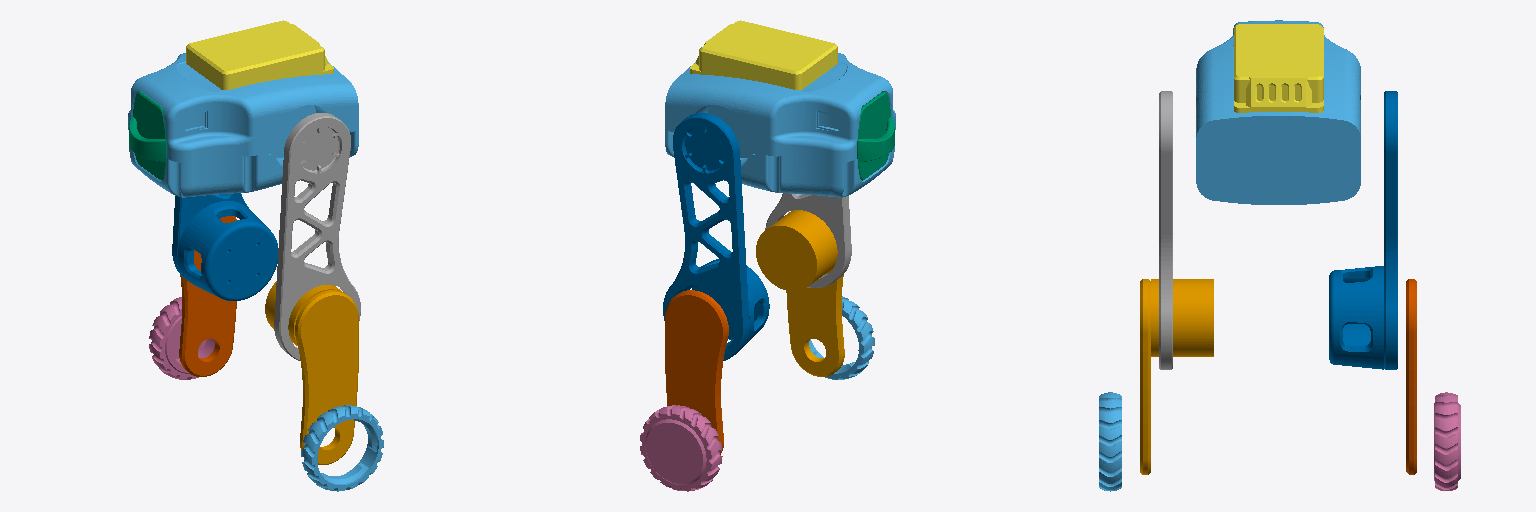
The robot description file, URDF, robot "Tancho_v3":
<?xml version='1.0' encoding='utf-8'?>
<robot name="Tancho_v3">
  <link name="base_link_root" />
  <link name="base_link">
    <inertial>
      <origin xyz="0.0011187875 0.00127367658 -1.70173615e-08" rpy="0 0 0" />
      <mass value="0.348" />
      <inertia ixx="0.000593043538" iyy="0.00111124105" izz="0.000996417014" ixy="-3.01447428e-06" ixz="2.6335003e-10" iyz="1.92376359e-09" />
    </inertial>
    <visual>
      <origin xyz="0 0 0" rpy="0 0 0" />
      <geometry>
        <mesh filename="meshes/base_link.stl" />
      </geometry>
    </visual>
    <collision>
      <origin xyz="0 0 0" rpy="0 0 0" />
      <geometry>
        <mesh filename="meshes/base_link.stl" />
      </geometry>
    </collision>
    <visual>
      <origin xyz="0 0 0" rpy="0 0 0" />
      <geometry>
        <mesh filename="meshes/base_link001.stl" />
      </geometry>
    </visual>
    <collision>
      <origin xyz="0 0 0" rpy="0 0 0" />
      <geometry>
        <mesh filename="meshes/base_link001.stl" />
      </geometry>
    </collision>
    <visual>
      <origin xyz="0 0 0" rpy="0 0 0" />
      <geometry>
        <mesh filename="meshes/base_link002.stl" />
      </geometry>
    </visual>
    <collision>
      <origin xyz="0 0 0" rpy="0 0 0" />
      <geometry>
        <mesh filename="meshes/base_link002.stl" />
      </geometry>
    </collision>
  </link>
  <link name="drawer">
    <inertial>
      <origin xyz="-0.0211872329 -0.00792307398 1.62167735e-08" rpy="0 0 0" />
      <mass value="0.4" />
      <inertia ixx="0.000138603081" iyy="0.000681290964" izz="0.000678129249" ixy="3.77968725e-05" ixz="3.49798101e-10" iyz="-1.01244165e-10" />
    </inertial>
    <visual>
      <origin xyz="0 0 0" rpy="0 0 0" />
      <geometry>
        <mesh filename="meshes/drawer.stl" />
      </geometry>
    </visual>
    <collision>
      <origin xyz="0 0 0" rpy="0 0 0" />
      <geometry>
        <mesh filename="meshes/drawer.stl" />
      </geometry>
    </collision>
  </link>
  <link name="pi_case">
    <inertial>
      <origin xyz="0.0233176478 0.0504234963 2.16819542e-07" rpy="0 0 0" />
      <mass value="0.146" />
      <inertia ixx="5.63737974e-05" iyy="0.000172248568" izz="0.000125194055" ixy="5.67823474e-06" ixz="4.78640645e-10" iyz="1.98975908e-10" />
    </inertial>
    <visual>
      <origin xyz="0 0 0" rpy="0 0 0" />
      <geometry>
        <mesh filename="meshes/pi_case.stl" />
      </geometry>
    </visual>
    <collision>
      <origin xyz="0 0 0" rpy="0 0 0" />
      <geometry>
        <mesh filename="meshes/pi_case.stl" />
      </geometry>
    </collision>
  </link>
  <link name="thigh_L">
    <inertial>
      <origin xyz="-0.000408445945 -0.0229151318 -0.00280925304" rpy="0 0 0" />
      <mass value="0.379" />
      <inertia ixx="0.0011933124" iyy="0.000180923701" izz="0.00119950751" ixy="-9.84386411e-06" ixz="-3.90023267e-06" iyz="-4.78810371e-05" />
    </inertial>
    <visual>
      <origin xyz="0 0 0" rpy="0 0 0" />
      <geometry>
        <mesh filename="meshes/joint_thigh_L.stl" />
      </geometry>
    </visual>
    <collision>
      <origin xyz="0 0 0" rpy="0 0 0" />
      <geometry>
        <mesh filename="meshes/joint_thigh_L.stl" />
      </geometry>
    </collision>
    <visual>
      <origin xyz="0 0 0" rpy="0 0 0" />
      <geometry>
        <mesh filename="meshes/thigh_L.stl" />
      </geometry>
    </visual>
    <collision>
      <origin xyz="0 0 0" rpy="0 0 0" />
      <geometry>
        <mesh filename="meshes/thigh_L.stl" />
      </geometry>
    </collision>
    <visual>
      <origin xyz="0 0 0" rpy="0 0 0" />
      <geometry>
        <mesh filename="meshes/knee_cover_L.stl" />
      </geometry>
    </visual>
    <collision>
      <origin xyz="0 0 0" rpy="0 0 0" />
      <geometry>
        <mesh filename="meshes/knee_cover_L.stl" />
      </geometry>
    </collision>
  </link>
  <link name="calf_L">
    <inertial>
      <origin xyz="0.000188809828 -0.00516026443 -0.00324688923" rpy="0 0 0" />
      <mass value="0.341" />
      <inertia ixx="0.000273664582" iyy="0.000148954531" izz="0.000263786338" ixy="2.84340912e-06" ixz="1.52962103e-06" iyz="-4.18052867e-05" />
    </inertial>
    <visual>
      <origin xyz="0 0 0" rpy="0 0 0" />
      <geometry>
        <mesh filename="meshes/joint_knee_L.stl" />
      </geometry>
    </visual>
    <collision>
      <origin xyz="0 0 0" rpy="0 0 0" />
      <geometry>
        <mesh filename="meshes/joint_knee_L.stl" />
      </geometry>
    </collision>
    <visual>
      <origin xyz="0 0 0" rpy="0 0 0" />
      <geometry>
        <mesh filename="meshes/calf_L.stl" />
      </geometry>
    </visual>
    <collision>
      <origin xyz="0 0 0" rpy="0 0 0" />
      <geometry>
        <mesh filename="meshes/calf_L.stl" />
      </geometry>
    </collision>
  </link>
  <link name="wheel_L">
    <inertial>
      <origin xyz="4.74095232e-11 5.83255949e-07 0.00192447727" rpy="0 0 0" />
      <mass value="0.152" />
      <inertia ixx="3.78602142e-05" iyy="3.7860214e-05" izz="5.35967391e-05" ixy="-2.30837502e-16" ixz="-8.13345963e-14" iyz="-5.49762767e-10" />
    </inertial>
    <visual>
      <origin xyz="0 0 0" rpy="0 0 0" />
      <geometry>
        <mesh filename="meshes/joint_wheel_L.stl" />
      </geometry>
    </visual>
    <collision>
      <origin xyz="0 0 0" rpy="0 0 0" />
      <geometry>
        <mesh filename="meshes/joint_wheel_L.stl" />
      </geometry>
    </collision>
    <visual>
      <origin xyz="0 0 0" rpy="0 0 0" />
      <geometry>
        <mesh filename="meshes/wheel_L.stl" />
      </geometry>
    </visual>
    <collision>
      <origin xyz="0 0 0" rpy="0 0 0" />
      <geometry>
        <mesh filename="meshes/wheel_L.stl" />
      </geometry>
    </collision>
    <visual>
      <origin xyz="0 0 0" rpy="0 0 0" />
      <geometry>
        <mesh filename="meshes/wheel_L001.stl" />
      </geometry>
    </visual>
    <collision>
      <origin xyz="0 0 0" rpy="0 0 0" />
      <geometry>
        <mesh filename="meshes/wheel_L001.stl" />
      </geometry>
    </collision>
  </link>
  <link name="thigh_R">
    <inertial>
      <origin xyz="-0.00040844648 -0.0229151208 0.00280925412" rpy="0 0 0" />
      <mass value="0.379" />
      <inertia ixx="0.00119331189" iyy="0.000180923737" izz="0.00119950696" ixy="-9.84387862e-06" ixz="3.90023762e-06" iyz="4.7880986e-05" />
    </inertial>
    <visual>
      <origin xyz="0 0 0" rpy="0 0 0" />
      <geometry>
        <mesh filename="meshes/joint_thigh_R.stl" />
      </geometry>
    </visual>
    <collision>
      <origin xyz="0 0 0" rpy="0 0 0" />
      <geometry>
        <mesh filename="meshes/joint_thigh_R.stl" />
      </geometry>
    </collision>
    <visual>
      <origin xyz="0 0 0" rpy="0 0 0" />
      <geometry>
        <mesh filename="meshes/thigh_R.stl" />
      </geometry>
    </visual>
    <collision>
      <origin xyz="0 0 0" rpy="0 0 0" />
      <geometry>
        <mesh filename="meshes/thigh_R.stl" />
      </geometry>
    </collision>
    <visual>
      <origin xyz="0 0 0" rpy="0 0 0" />
      <geometry>
        <mesh filename="meshes/knee_cover_R.stl" />
      </geometry>
    </visual>
    <collision>
      <origin xyz="0 0 0" rpy="0 0 0" />
      <geometry>
        <mesh filename="meshes/knee_cover_R.stl" />
      </geometry>
    </collision>
  </link>
  <link name="calf_R">
    <inertial>
      <origin xyz="0.000188809828 -0.00516026443 0.00324688923" rpy="0 0 0" />
      <mass value="0.341" />
      <inertia ixx="0.000273664582" iyy="0.000148954531" izz="0.000263786338" ixy="2.84340912e-06" ixz="-1.52962103e-06" iyz="4.18052867e-05" />
    </inertial>
    <visual>
      <origin xyz="0 0 0" rpy="0 0 0" />
      <geometry>
        <mesh filename="meshes/joint_knee_R.stl" />
      </geometry>
    </visual>
    <collision>
      <origin xyz="0 0 0" rpy="0 0 0" />
      <geometry>
        <mesh filename="meshes/joint_knee_R.stl" />
      </geometry>
    </collision>
    <visual>
      <origin xyz="0 0 0" rpy="0 0 0" />
      <geometry>
        <mesh filename="meshes/calf_R.stl" />
      </geometry>
    </visual>
    <collision>
      <origin xyz="0 0 0" rpy="0 0 0" />
      <geometry>
        <mesh filename="meshes/calf_R.stl" />
      </geometry>
    </collision>
  </link>
  <link name="wheel_R">
    <inertial>
      <origin xyz="2.1907452e-11 5.83325029e-07 -0.00192447731" rpy="0 0 0" />
      <mass value="0.152" />
      <inertia ixx="3.78602143e-05" iyy="3.78602141e-05" izz="5.35967391e-05" ixy="1.66490752e-16" ixz="1.49207184e-14" iyz="5.49859042e-10" />
    </inertial>
    <visual>
      <origin xyz="0 0 0" rpy="0 0 0" />
      <geometry>
        <mesh filename="meshes/joint_wheel_R.stl" />
      </geometry>
    </visual>
    <collision>
      <origin xyz="0 0 0" rpy="0 0 0" />
      <geometry>
        <mesh filename="meshes/joint_wheel_R.stl" />
      </geometry>
    </collision>
    <visual>
      <origin xyz="0 0 0" rpy="0 0 0" />
      <geometry>
        <mesh filename="meshes/wheel_R.stl" />
      </geometry>
    </visual>
    <collision>
      <origin xyz="0 0 0" rpy="0 0 0" />
      <geometry>
        <mesh filename="meshes/wheel_R.stl" />
      </geometry>
    </collision>
    <visual>
      <origin xyz="0 0 0" rpy="0 0 0" />
      <geometry>
        <mesh filename="meshes/wheel_R001.stl" />
      </geometry>
    </visual>
    <collision>
      <origin xyz="0 0 0" rpy="0 0 0" />
      <geometry>
        <mesh filename="meshes/wheel_R001.stl" />
      </geometry>
    </collision>
  </link>
  <link name="imu_link" />
  <joint name="base_link_rotation_joint" type="fixed">
    <origin xyz="0 0 0" rpy="1.57079633 0 0" />
    <parent link="base_link_root" />
    <child link="base_link" />
  </joint>
  <joint name="joint_drawer_R" type="fixed">
    <origin xyz="-0.01 0.00055265617 0" rpy="0 0 0" />
    <parent link="base_link" />
    <child link="drawer" />
  </joint>
  <joint name="joint_pi_case_R" type="fixed">
    <origin xyz="-0.01 0.00055265617 0" rpy="0 0 0" />
    <parent link="base_link" />
    <child link="pi_case" />
  </joint>
  <joint name="joint_thigh_L" type="revolute">
    <origin xyz="0.0192385743 0.000552656168 -0.0539953847" rpy="0 0 0" />
    <parent link="base_link" />
    <child link="thigh_L" />
    <axis xyz="0 0 1" />
    <limit lower="-1.57" upper="1.57" effort="12.5" velocity="12.5663706" />
  </joint>
  <joint name="joint_calf_L" type="revolute">
    <origin xyz="-1.53296043e-13 -0.15 -0.016" rpy="0 0 0" />
    <parent link="thigh_L" />
    <child link="calf_L" />
    <axis xyz="0 0 1" />
    <limit lower="0" upper="3" effort="12.5" velocity="12.5663706" />
  </joint>
  <joint name="joint_wheel_L" type="continuous">
    <origin xyz="4.58907579e-13 -0.0999975373 -0.0455046153" rpy="3.14159265 0 0" />
    <parent link="calf_L" />
    <child link="wheel_L" />
    <axis xyz="0 0 1" />
    <limit effort="0.45" velocity="52.3598776" />
  </joint>
  <joint name="joint_thigh_R" type="revolute">
    <origin xyz="0.0192385743 0.000552656168 0.0539953847" rpy="0 0 0" />
    <parent link="base_link" />
    <child link="thigh_R" />
    <axis xyz="0 0 1" />
    <limit lower="-1.57" upper="1.57" effort="12.5" velocity="12.5663706" />
  </joint>
  <joint name="joint_calf_R" type="revolute">
    <origin xyz="-1.62007296e-13 -0.15 0.016" rpy="0 0 0" />
    <parent link="thigh_R" />
    <child link="calf_R" />
    <axis xyz="0 0 1" />
    <limit lower="0" upper="3" effort="12.5" velocity="12.5663706" />
  </joint>
  <joint name="joint_wheel_R" type="continuous">
    <origin xyz="-1.5894841e-14 -0.0999975373 0.0455046153" rpy="3.14159265 0 0" />
    <parent link="calf_R" />
    <child link="wheel_R" />
    <axis xyz="0 0 1" />
    <limit effort="0.45" velocity="52.3598776" />
  </joint>
  <joint name="imu_joint" type="fixed">
    <origin xyz="-0.00835741999 -0.0294337942 -1.60456261e-08" rpy="0 0 0" />
    <parent link="base_link" />
    <child link="imu_link" />
  </joint>
</robot>

--- What the picture shows (computed from the rendered views, not written in the file) ---
The picture shows the robot from 3 angles, left to right: view 1: azimuth 30°, elevation 25°; view 2: azimuth 150°, elevation 25°; view 3: azimuth 270°, elevation 25°; orthographic projection.
Robot: Tancho_v3 — 11 links, 10 joints (4 revolute, 2 continuous, 4 fixed); root link base_link_root; default pose: every joint at zero.
Visible links, largest first — view 1: base_link, thigh_R, calf_R, thigh_L, pi_case, calf_L, wheel_R, drawer, wheel_L; view 2: base_link, thigh_L, calf_R, calf_L, pi_case, wheel_L, thigh_R, drawer, wheel_R; view 3: base_link, thigh_L, pi_case, calf_R, thigh_R, wheel_L, wheel_R, calf_L.
Link boxes in pixels (x1=…): base_link: x1=128, y1=53, x2=358, y2=197; thigh_R: x1=274, y1=113, x2=360, y2=360; calf_R: x1=265, y1=281, x2=358, y2=464; thigh_L: x1=172, y1=193, x2=277, y2=300; pi_case: x1=186, y1=20, x2=333, y2=89; calf_L: x1=179, y1=216, x2=236, y2=376; wheel_R: x1=301, y1=405, x2=383, y2=491; drawer: x1=129, y1=92, x2=166, y2=180; wheel_L: x1=149, y1=297, x2=214, y2=379; base_link: x1=665, y1=53, x2=895, y2=197; thigh_L: x1=663, y1=113, x2=769, y2=360; calf_R: x1=756, y1=210, x2=844, y2=376; calf_L: x1=665, y1=290, x2=728, y2=454; pi_case: x1=690, y1=20, x2=837, y2=89; wheel_L: x1=640, y1=405, x2=722, y2=491; thigh_R: x1=765, y1=193, x2=851, y2=287; drawer: x1=857, y1=92, x2=894, y2=180; wheel_R: x1=809, y1=296, x2=874, y2=379; base_link: x1=1196, y1=20, x2=1360, y2=204; thigh_L: x1=1329, y1=91, x2=1397, y2=369; pi_case: x1=1234, y1=24, x2=1323, y2=112; calf_R: x1=1140, y1=279, x2=1213, y2=474; thigh_R: x1=1159, y1=91, x2=1172, y2=369; wheel_L: x1=1434, y1=392, x2=1460, y2=490; wheel_R: x1=1099, y1=392, x2=1121, y2=491; calf_L: x1=1406, y1=279, x2=1416, y2=474.
Bounding box of the posed robot: 0.1731 × 0.264 × 0.3461 m (x, y, z).
13 mesh visuals loaded from 21 distinct referenced files (13 binary STL); not drawn: 8 (reference not matched to a file when rendering).
